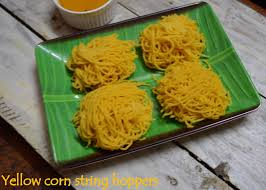idyappa: (64, 16, 217, 153)
